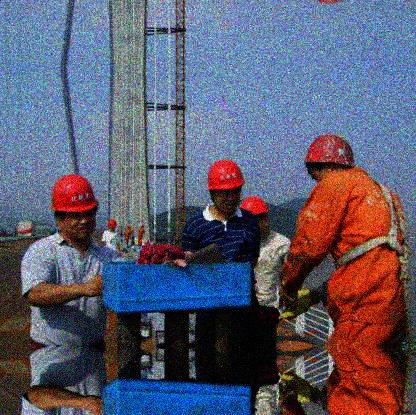helmet: (47, 172, 100, 239), (304, 134, 356, 183), (205, 159, 246, 213), (238, 194, 272, 238), (108, 219, 117, 232)
